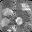people: (1, 18, 13, 27), (2, 8, 14, 16), (15, 16, 23, 26)
